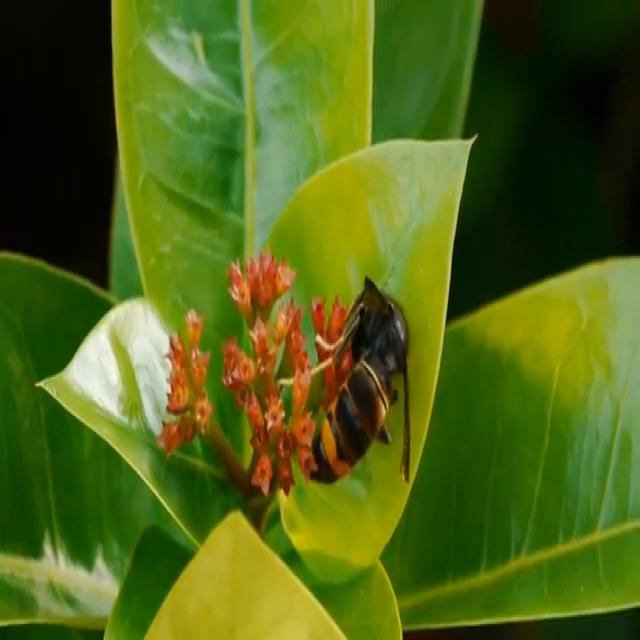Hornets: (280, 274, 412, 486)
